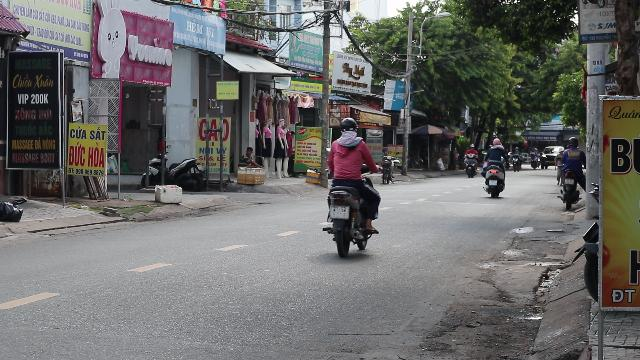helmet: (338, 118, 358, 137)
licenseplate: (330, 206, 348, 218)
motorcyclist: (320, 116, 382, 256)
